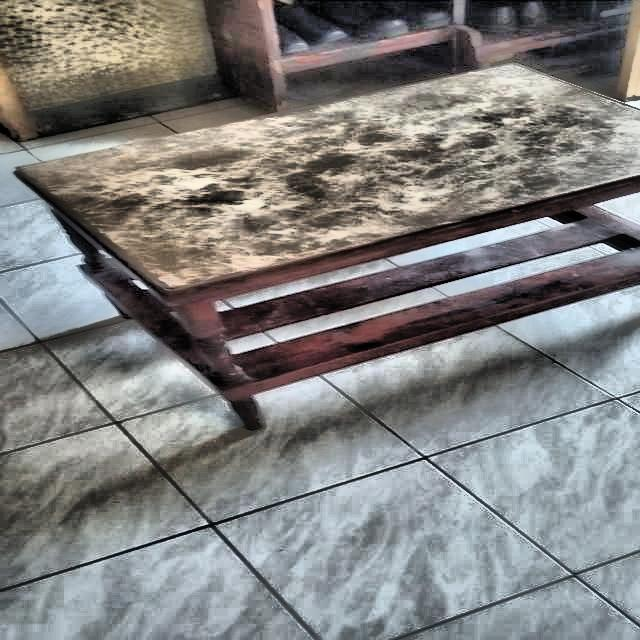mesa: (8, 56, 640, 436)
